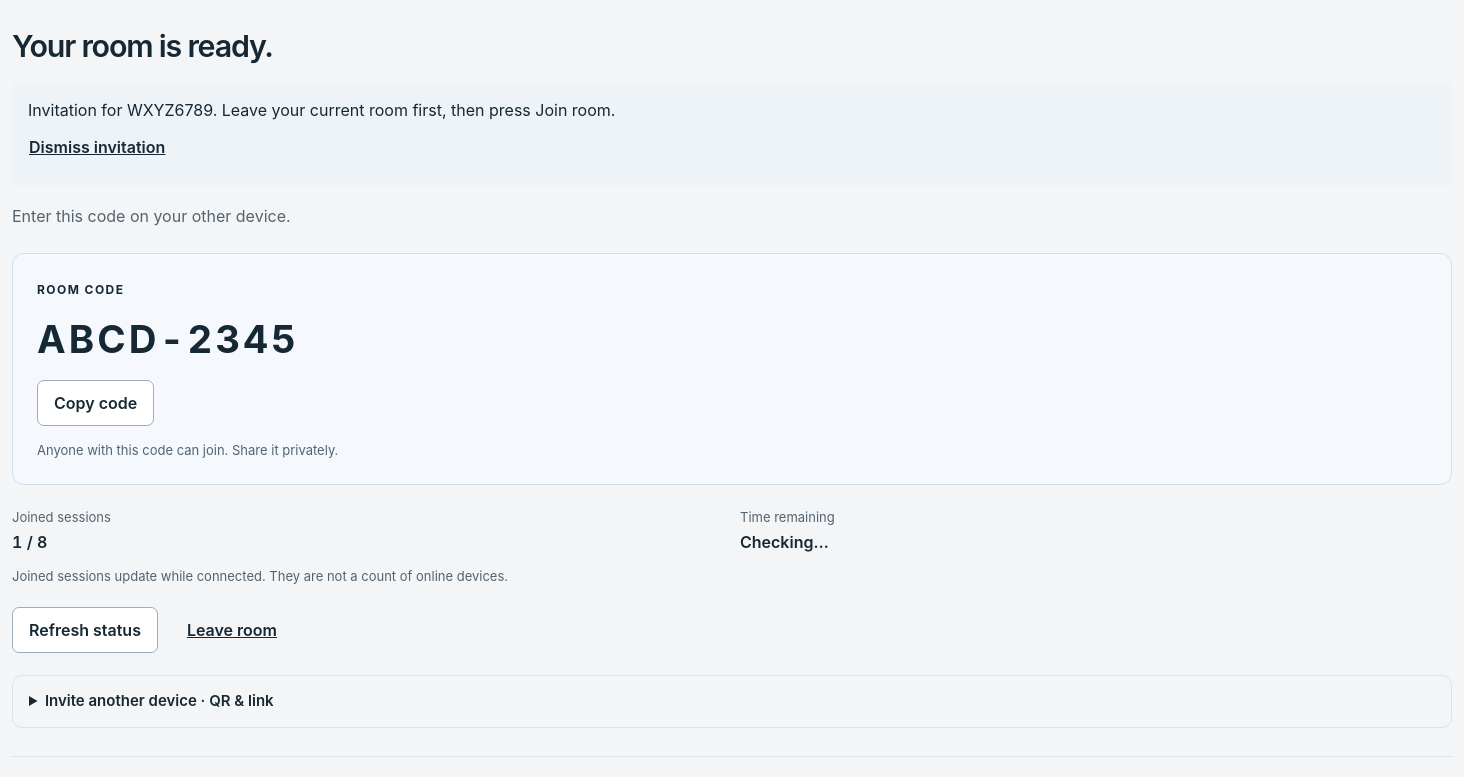
Test case: a new invitation never silently leaves an existing room
Expected: the text "1 / 8" is shown, x1=12 y1=532 x2=47 y2=552
Expected: the text "Leave your current room first" is shown, x1=28 y1=100 x2=615 y2=120
Click the button "Leave room".
click(232, 630)  # box x1=170 y1=607 x2=294 y2=653
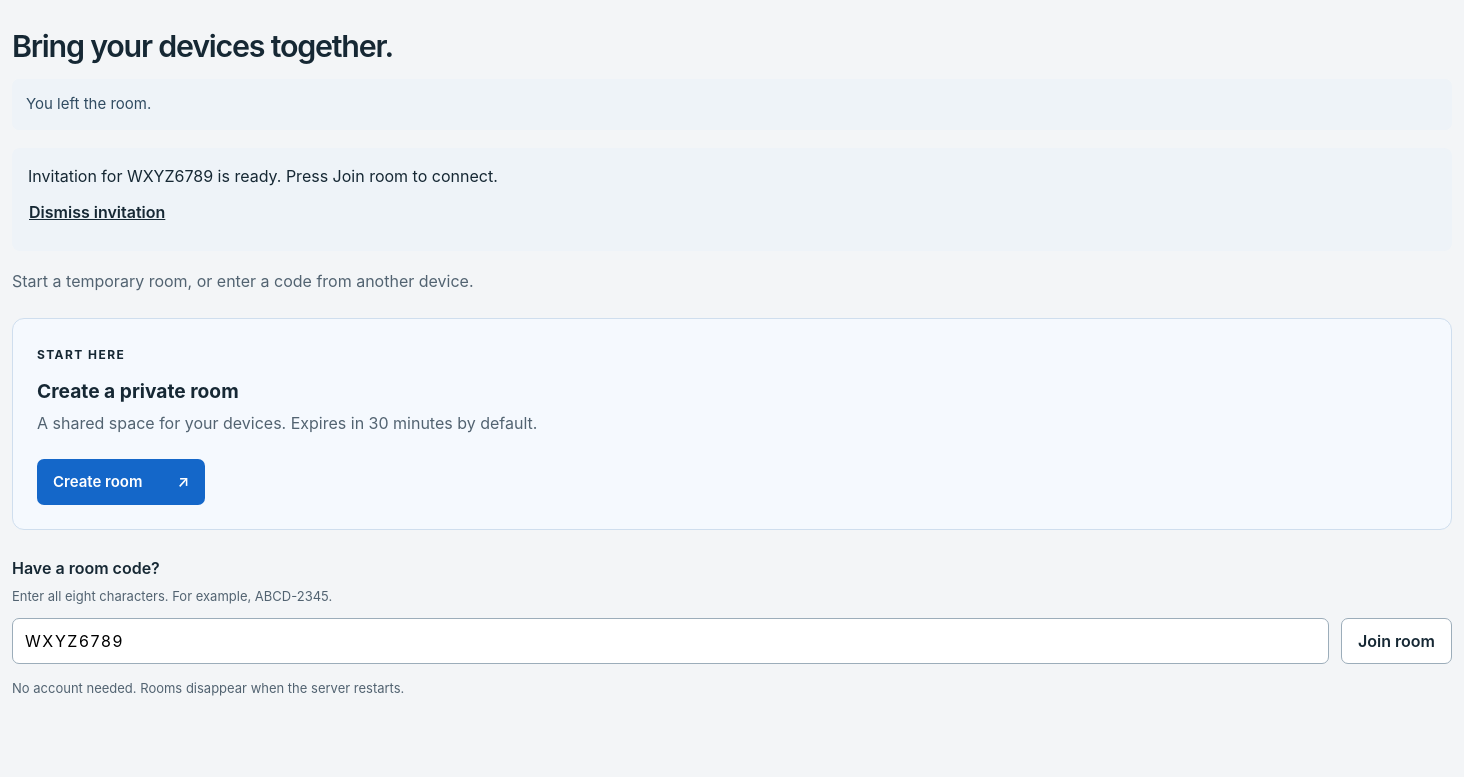
Now the button "Join room" is shown, box x1=1341 y1=618 x2=1452 y2=664
Now the field labelled "Have a room code?" holds "WXYZ6789", box x1=12 y1=618 x2=1329 y2=664
